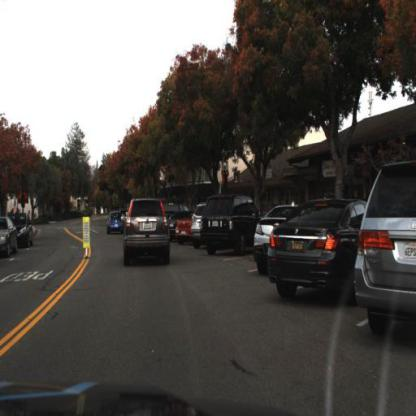car: (355, 160, 416, 342), (267, 193, 363, 305), (252, 194, 314, 277), (119, 196, 178, 273), (199, 192, 254, 259), (190, 197, 208, 248), (174, 207, 194, 248), (1, 217, 20, 260), (18, 213, 34, 252), (105, 210, 125, 237), (168, 213, 178, 245)
